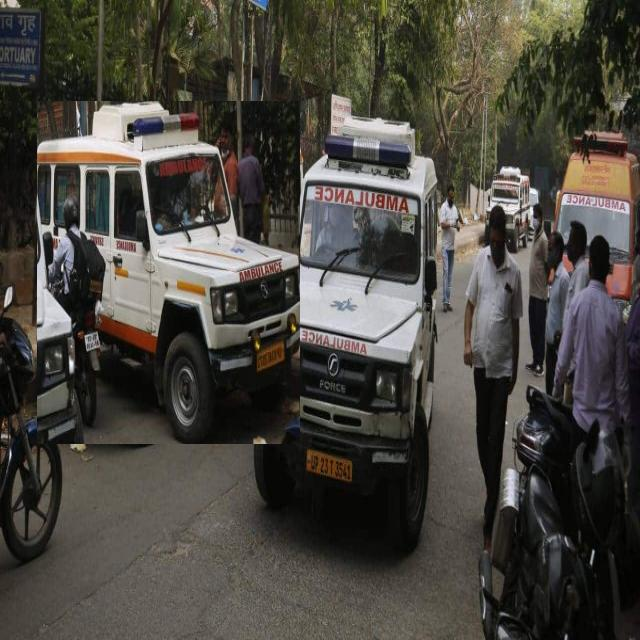emergency: (38, 102, 300, 444), (255, 120, 438, 551), (554, 131, 640, 303)
